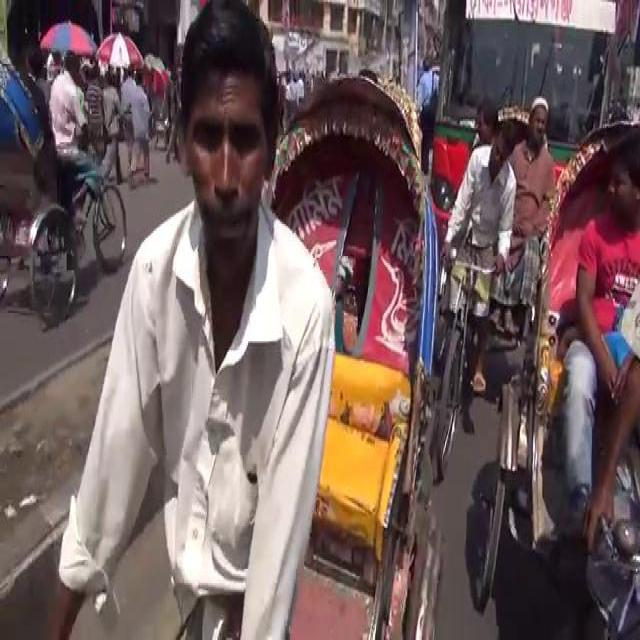13: (243, 37, 442, 636), (475, 113, 637, 634), (432, 105, 554, 499), (0, 36, 128, 330), (140, 49, 178, 161)
Truck: (428, 0, 622, 249)
